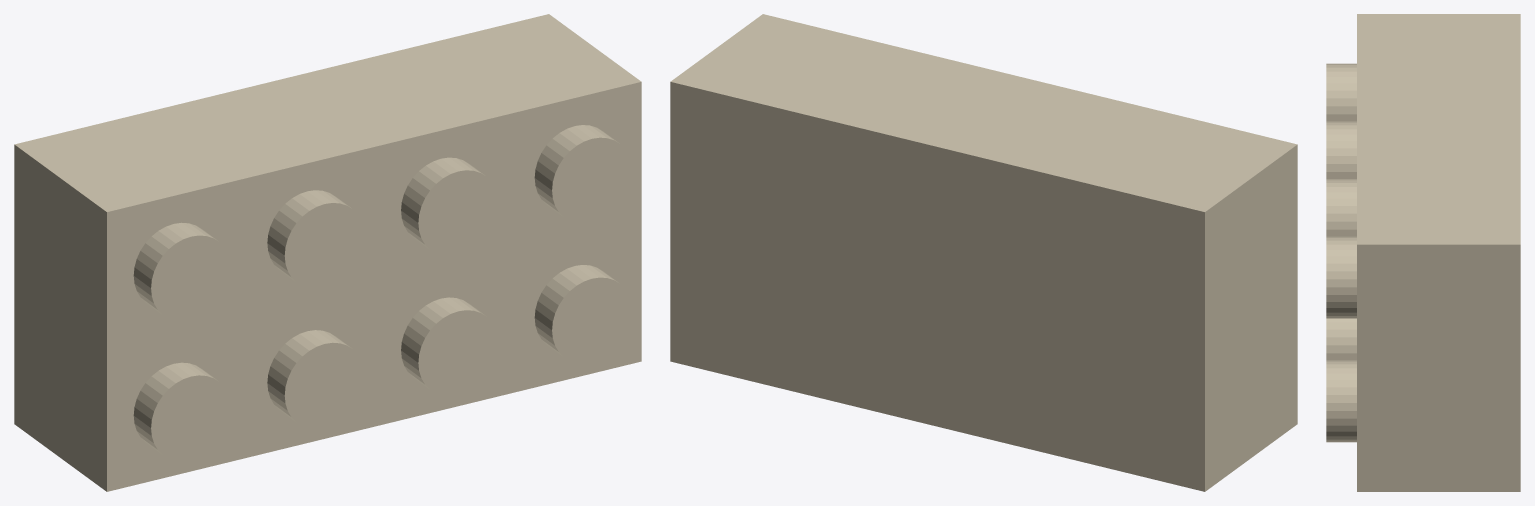
Rendered from brick_0.glb.
3 renders of one model, left to right at view 1: azimuth 30°, elevation 25°; view 2: azimuth 150°, elevation 25°; view 3: azimuth 270°, elevation 25°, orthographic. The views are drawn at different scales.
Visible parts, largest first — view 1: world; view 2: world; view 3: world.
Part boxes in pixels (box(x1,y1,x2,y2)): world: box(14, 14, 641, 491); world: box(670, 14, 1297, 491); world: box(1326, 14, 1520, 491).
Size of the model in its own units: 32 by 16 by 11.4.
